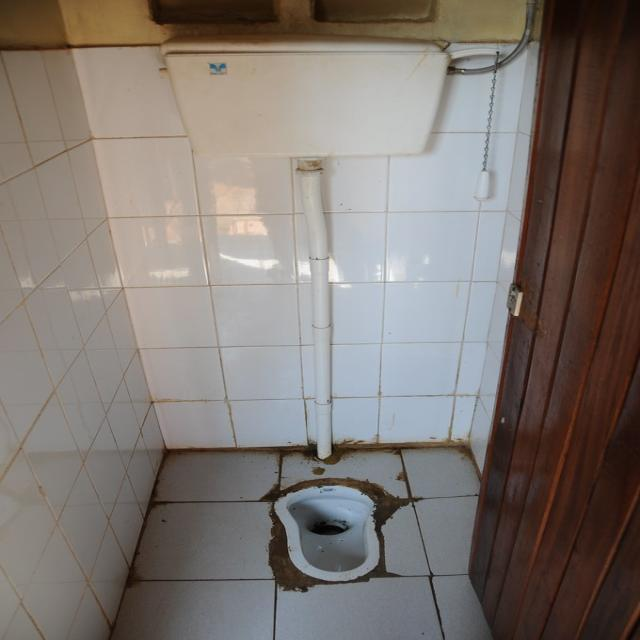dirty_floor: (1, 42, 533, 637), (109, 442, 490, 638)
